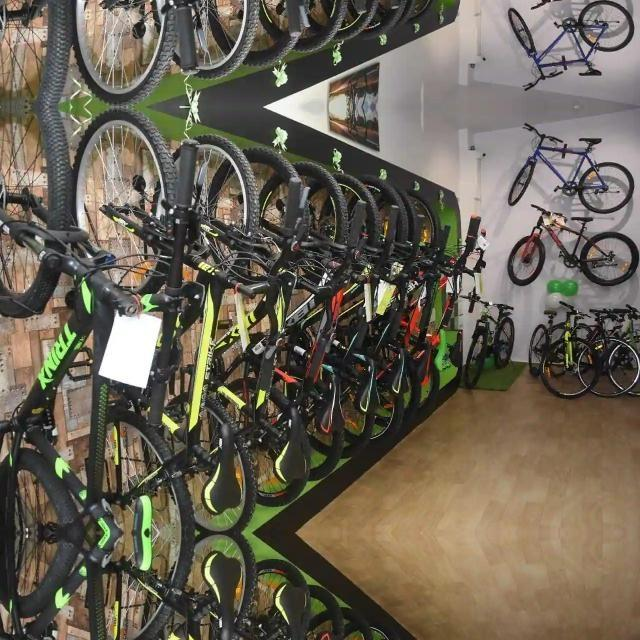obstacle: (500, 115, 640, 209), (500, 3, 640, 97), (500, 203, 640, 287), (530, 297, 598, 399), (464, 291, 526, 381), (500, 0, 640, 9)
